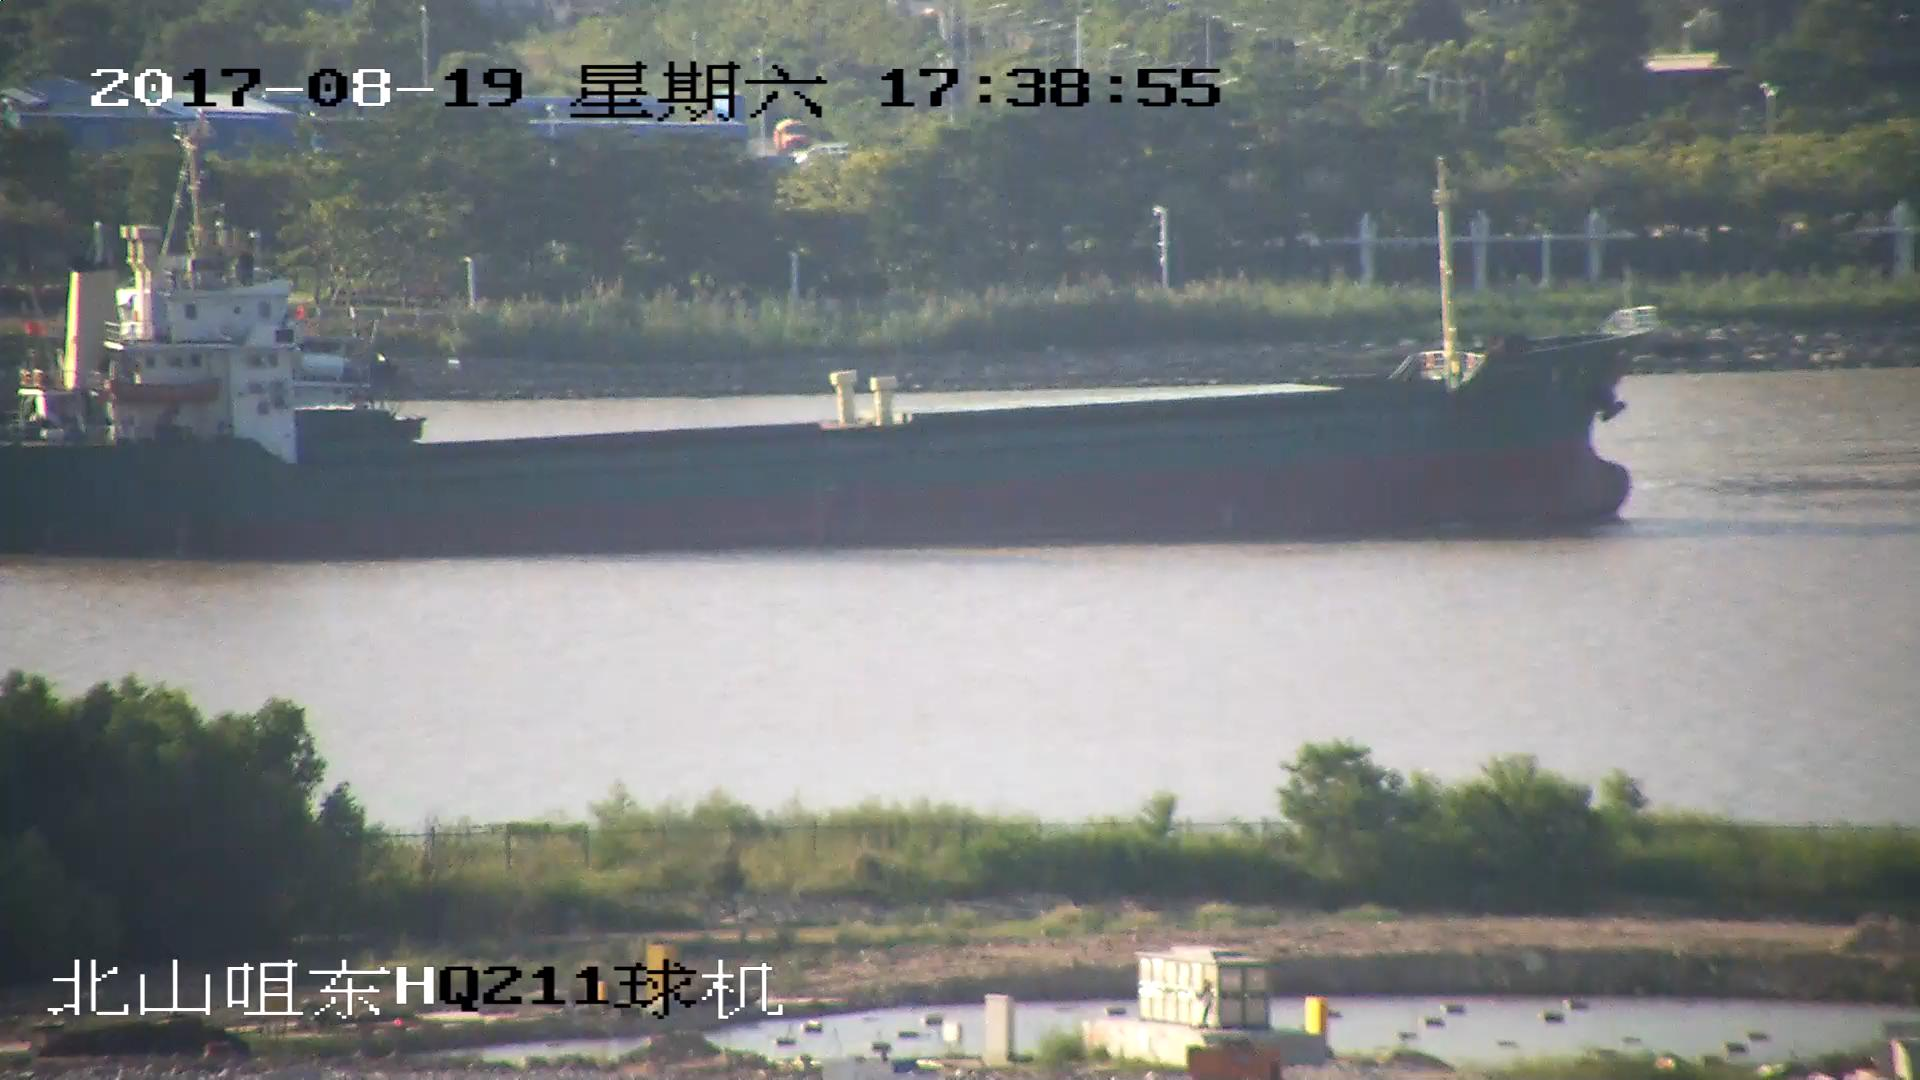general cargo ship: (1, 190, 1638, 530)
